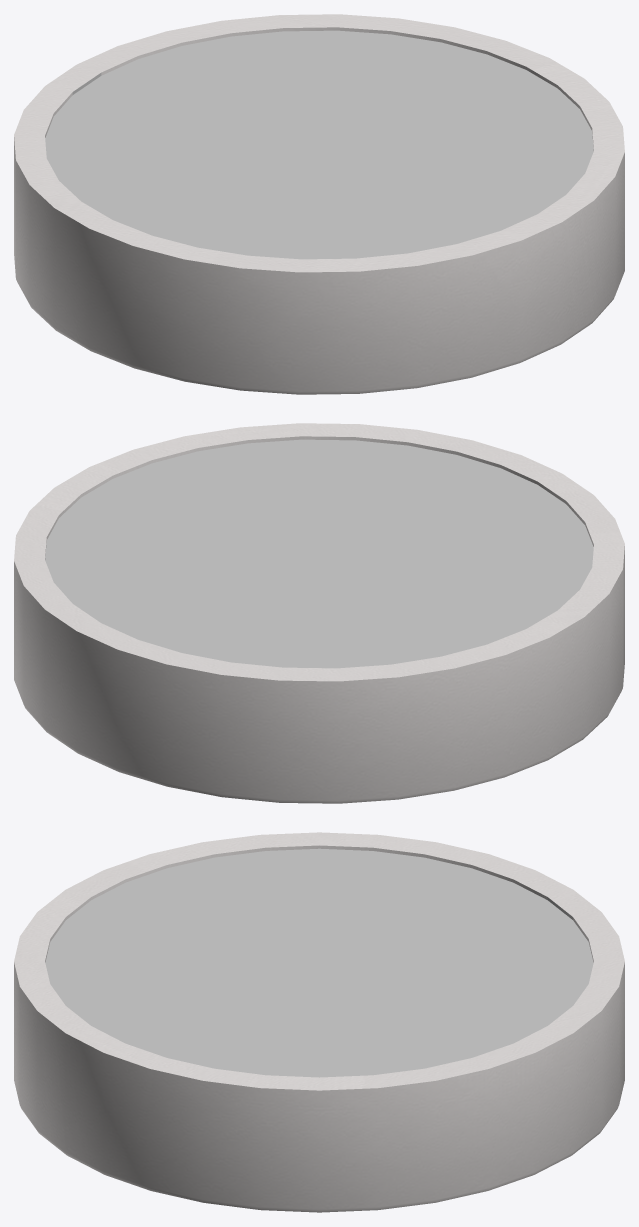
Rendered from Bulb.fbx.
The picture shows the model from 3 angles, top to bottom: view 1: azimuth 30°, elevation 25°; view 2: azimuth 150°, elevation 25°; view 3: azimuth 270°, elevation 25°; orthographic projection.
Parts seen in each view (by area): view 1: Cylinder; view 2: Cylinder; view 3: Cylinder.
Part boxes in pixels (x1,y1,x2,y2): Cylinder: (14, 14, 624, 394); Cylinder: (14, 423, 624, 803); Cylinder: (14, 832, 624, 1212).
Size of the model in its own units: 0.2381 by 0.0535 by 0.2381.
